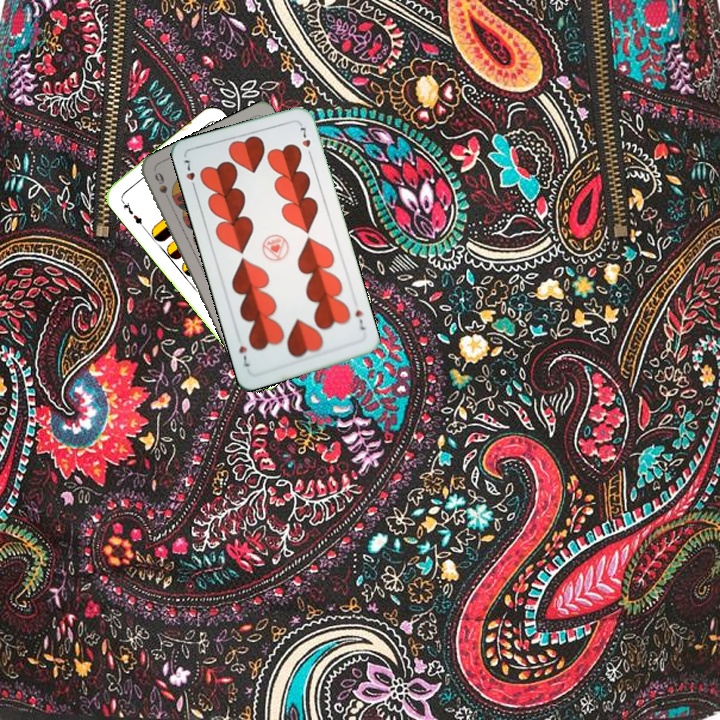E7: (117, 195, 147, 230)
H7: (180, 155, 199, 194), (351, 306, 367, 332)
S9: (150, 168, 174, 207)
